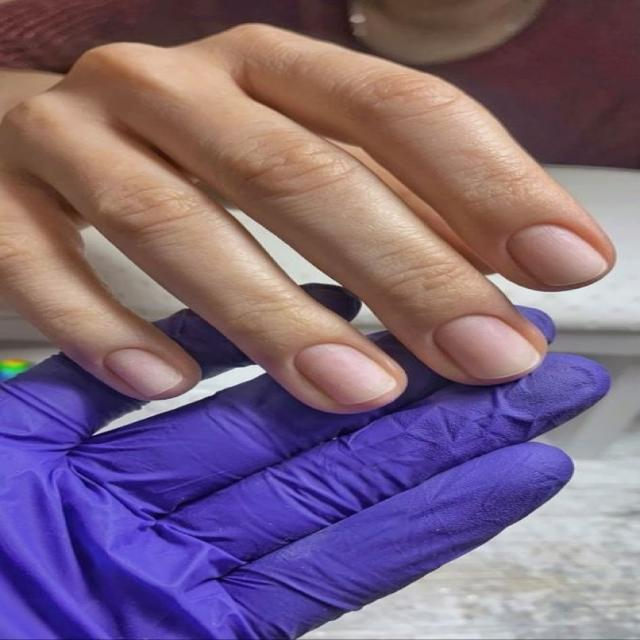Fingernail: (435, 314, 539, 379), (507, 224, 609, 286), (295, 343, 396, 405), (104, 348, 183, 397)
